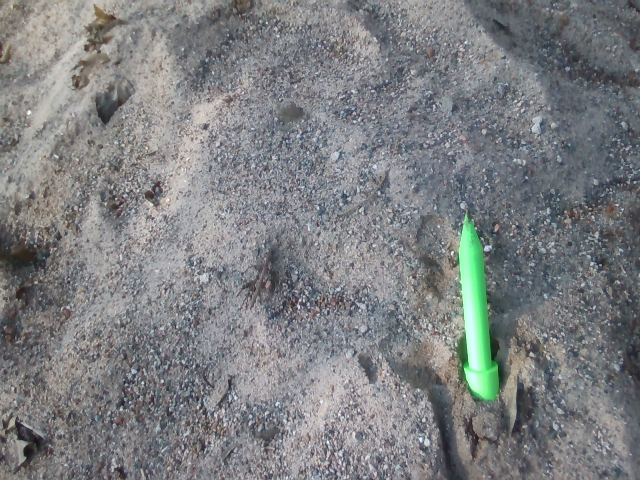Probe: (450, 198, 508, 415)
